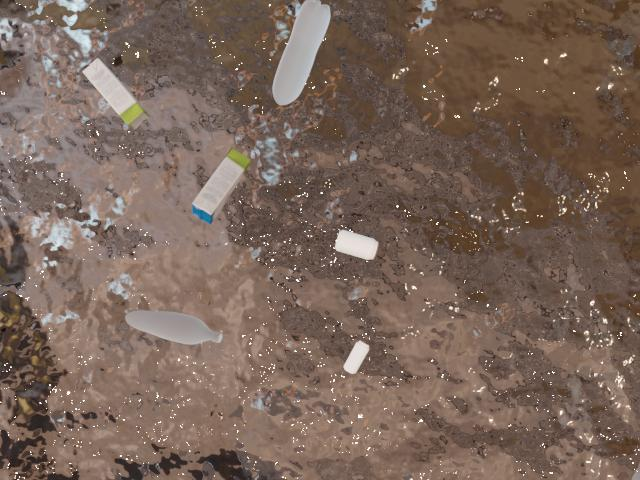Metal: (321, 217, 382, 280), (342, 331, 376, 381)
Plastic: (240, 0, 327, 108), (109, 285, 236, 354)
Trash: (75, 57, 148, 129), (194, 139, 244, 231)
